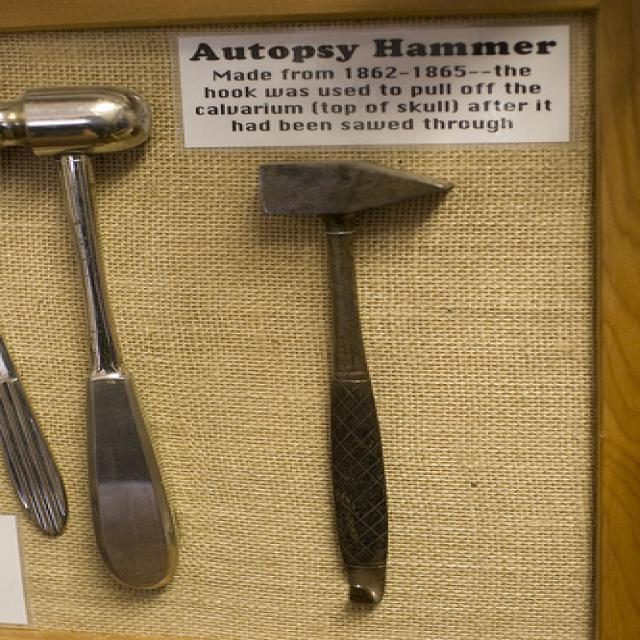hammer: (240, 156, 466, 612)
